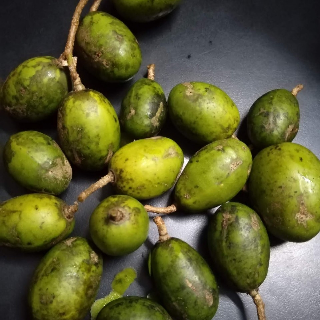coc: (173, 137, 252, 210), (213, 202, 270, 291), (57, 88, 118, 167), (110, 136, 184, 195), (168, 81, 239, 140), (90, 193, 147, 256), (247, 87, 298, 146), (119, 77, 169, 137)
